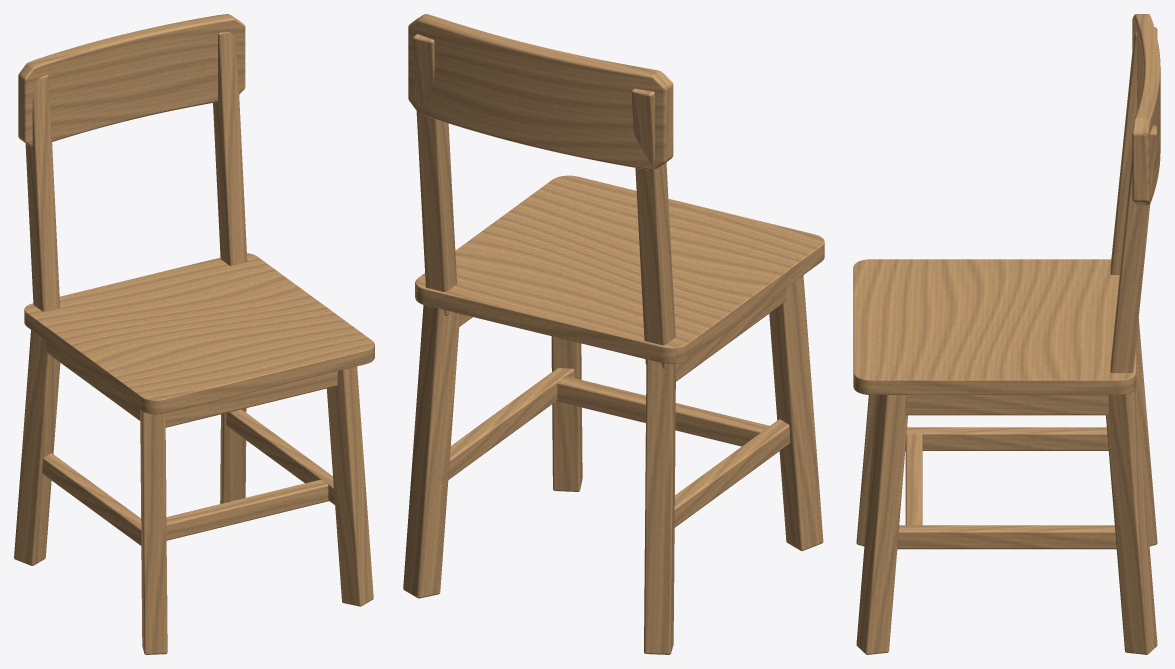
Rendered from Restaurant_Chair.fbx.
The picture shows the model from 3 angles, left to right: view 1: azimuth 30°, elevation 25°; view 2: azimuth 150°, elevation 25°; view 3: azimuth 270°, elevation 25°; orthographic projection. The views are drawn at different scales.
Parts seen in each view (by area): view 1: Oak seat, Curved backrest, Splayed leg.002, Splayed leg.001, Splayed leg, Back stile.001, Back stile, Cross stretcher, Side stretcher, Side stretcher.001, Front rail, Splayed leg.003 (+1 smaller); view 2: Oak seat, Curved backrest, Splayed leg.003, Splayed leg, Splayed leg.001, Back stile, Back stile.001, Cross stretcher, Side stretcher.001, Side stretcher, Splayed leg.002, Side rail; view 3: Oak seat, Splayed leg.003, Splayed leg.002, Side stretcher.001, Back stile.001, Side stretcher, Curved backrest, Side rail.001, Back stile, Splayed leg.001, Cross stretcher, Splayed leg.
Part boxes in pixels (x1=…): Oak seat: x1=24, y1=253, x2=374, y2=414; Curved backrest: x1=18, y1=14, x2=245, y2=146; Splayed leg.002: x1=327, y1=366, x2=373, y2=606; Splayed leg.001: x1=14, y1=330, x2=60, y2=565; Splayed leg: x1=140, y1=410, x2=167, y2=654; Back stile.001: x1=213, y1=32, x2=247, y2=265; Back stile: x1=25, y1=75, x2=59, y2=311; Cross stretcher: x1=166, y1=479, x2=328, y2=540; Side stretcher: x1=42, y1=453, x2=141, y2=545; Side stretcher.001: x1=222, y1=409, x2=340, y2=508; Front rail: x1=165, y1=371, x2=337, y2=427; Splayed leg.003: x1=220, y1=408, x2=246, y2=503; Oak seat: x1=415, y1=175, x2=824, y2=363; Curved backrest: x1=408, y1=14, x2=673, y2=169; Splayed leg.003: x1=403, y1=305, x2=460, y2=598; Splayed leg: x1=769, y1=275, x2=823, y2=550; Splayed leg.001: x1=644, y1=357, x2=675, y2=654; Back stile: x1=631, y1=88, x2=675, y2=368; Back stile.001: x1=412, y1=34, x2=456, y2=315; Cross stretcher: x1=556, y1=376, x2=769, y2=446; Side stretcher.001: x1=441, y1=367, x2=580, y2=483; Side stretcher: x1=674, y1=419, x2=790, y2=527; Splayed leg.002: x1=551, y1=336, x2=582, y2=491; Side rail: x1=675, y1=288, x2=786, y2=381; Oak seat: x1=853, y1=259, x2=1135, y2=394; Splayed leg.003: x1=1106, y1=380, x2=1157, y2=654; Splayed leg.002: x1=856, y1=395, x2=907, y2=654; Side stretcher.001: x1=897, y1=525, x2=1116, y2=549; Back stile.001: x1=1110, y1=125, x2=1157, y2=394; Side stretcher: x1=905, y1=427, x2=1108, y2=450; Curved backrest: x1=1132, y1=14, x2=1160, y2=205; Side rail.001: x1=905, y1=395, x2=1108, y2=415; Back stile: x1=1110, y1=27, x2=1157, y2=274; Splayed leg.001: x1=1136, y1=319, x2=1157, y2=546; Cross stretcher: x1=905, y1=433, x2=922, y2=525; Splayed leg: x1=856, y1=395, x2=876, y2=546.
Size of the model in its own units: 42 by 85.93 by 45.
1 material, 1 textured.
